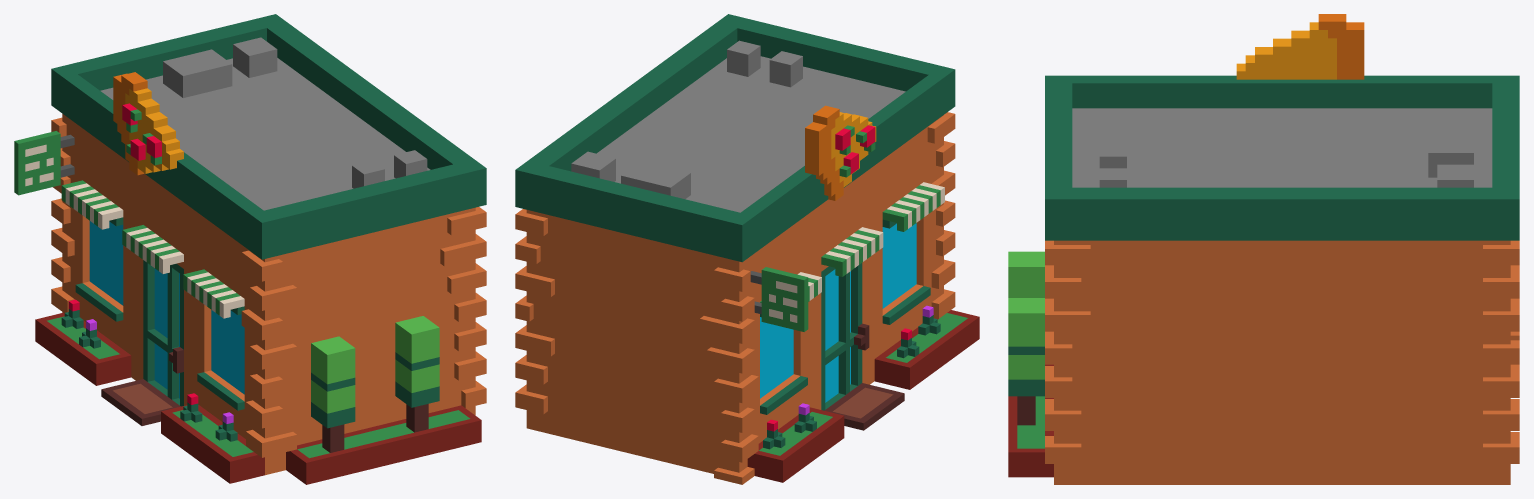
The model's file is PizzaPlace.obj.
3 views of the same model, side by side, from view 1: azimuth 30°, elevation 25°; view 2: azimuth 150°, elevation 25°; view 3: azimuth 270°, elevation 25° (orthographic). The views are drawn at different scales.
Size of the model in its own units: 3.9 by 4.2 by 5.6.
1 material, 1 textured.
